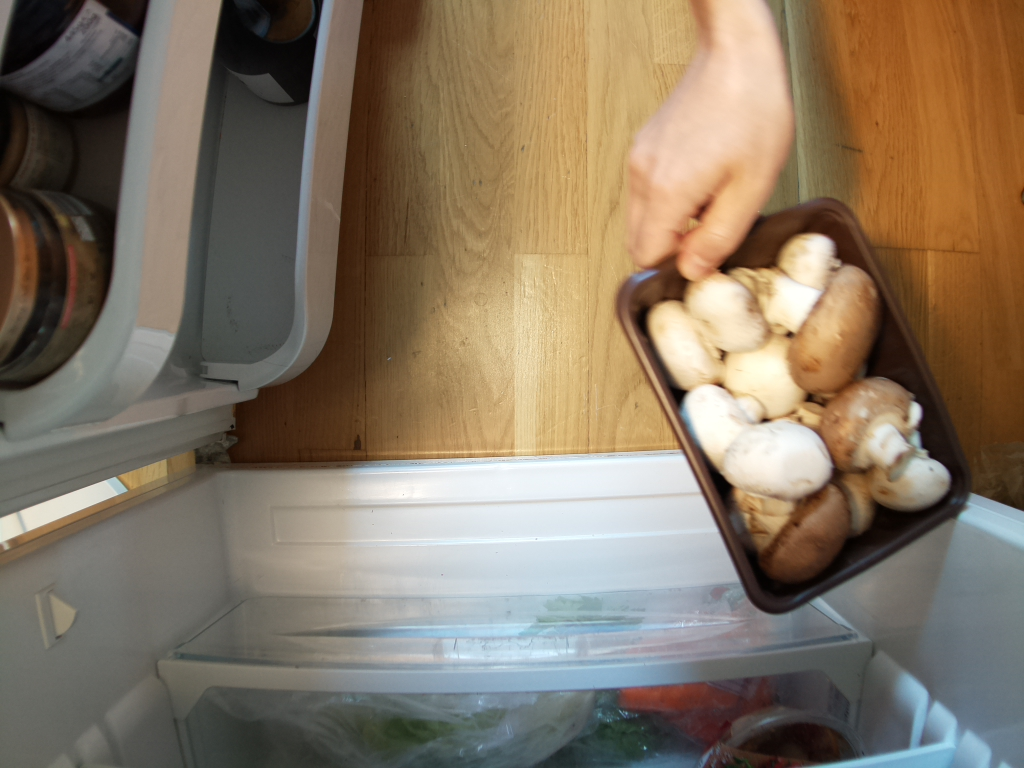mushrooms: (615, 197, 976, 614)
